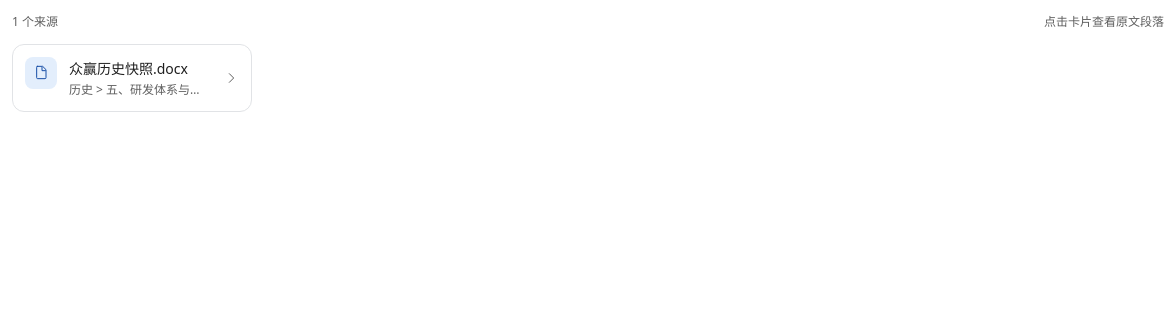
Test case: SourcesBar 引用卡片 › 原文档已删除仍直接渲染历史快照，不依赖文档详情接口
Expected: the text "众赢历史快照.docx" is shown, [69, 59, 188, 78]
Click the option "众赢历史快照.docx 历史 > 五、研发体系与投入" at (132, 78), box [12, 44, 252, 112]
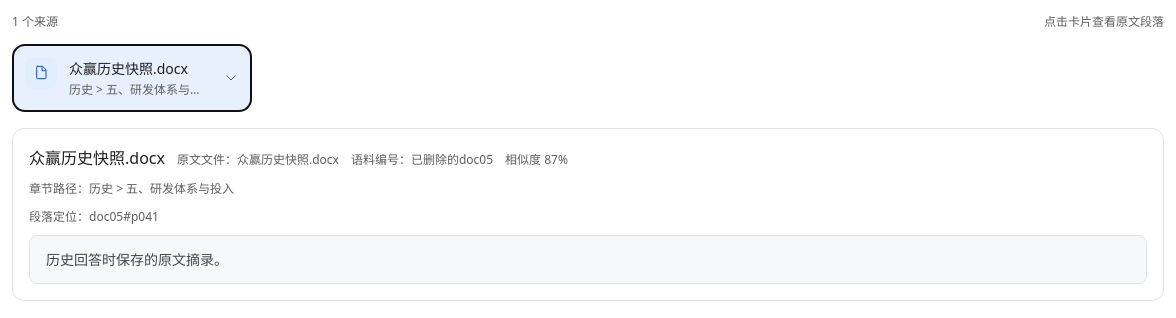
Expected: the text "原文文件：众赢历史快照.docx" is shown, [177, 150, 339, 170]
Expected: the text "章节路径：历史 > 五、研发体系与投入" is shown, [29, 180, 234, 197]
Expected: the text "历史回答时保存的原文摘录。" is shown, [29, 235, 1147, 284]
